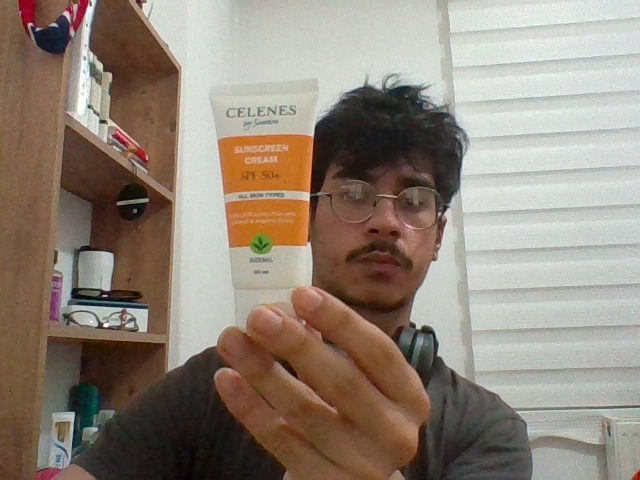CelenesSunCream: (211, 83, 319, 325)
